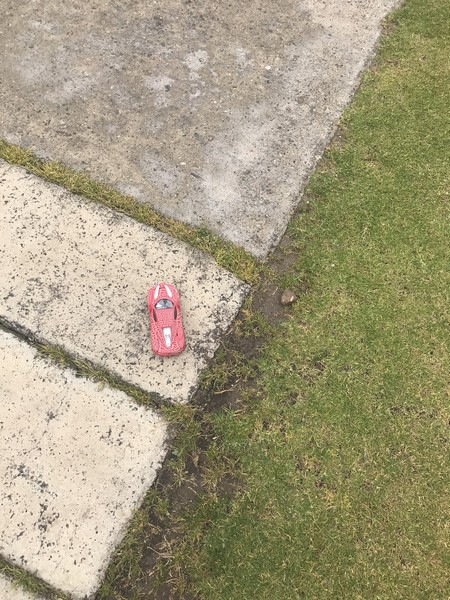RC: (146, 281, 187, 358)
